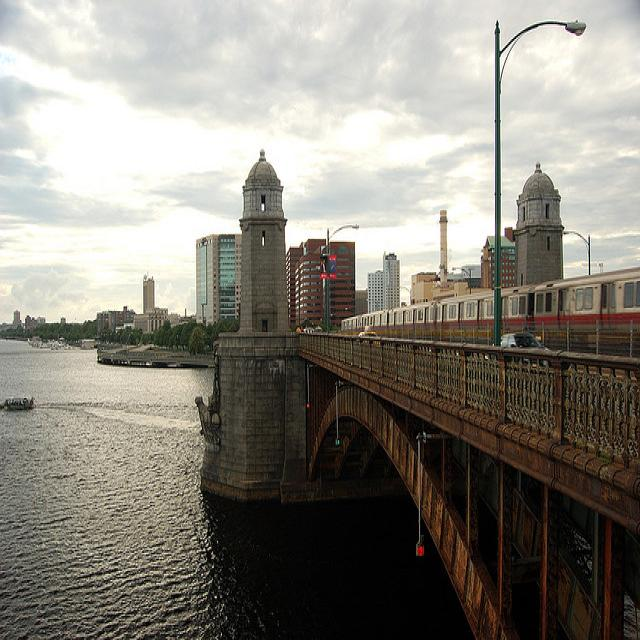Vehicle: (501, 334, 552, 352), (358, 332, 378, 336)
